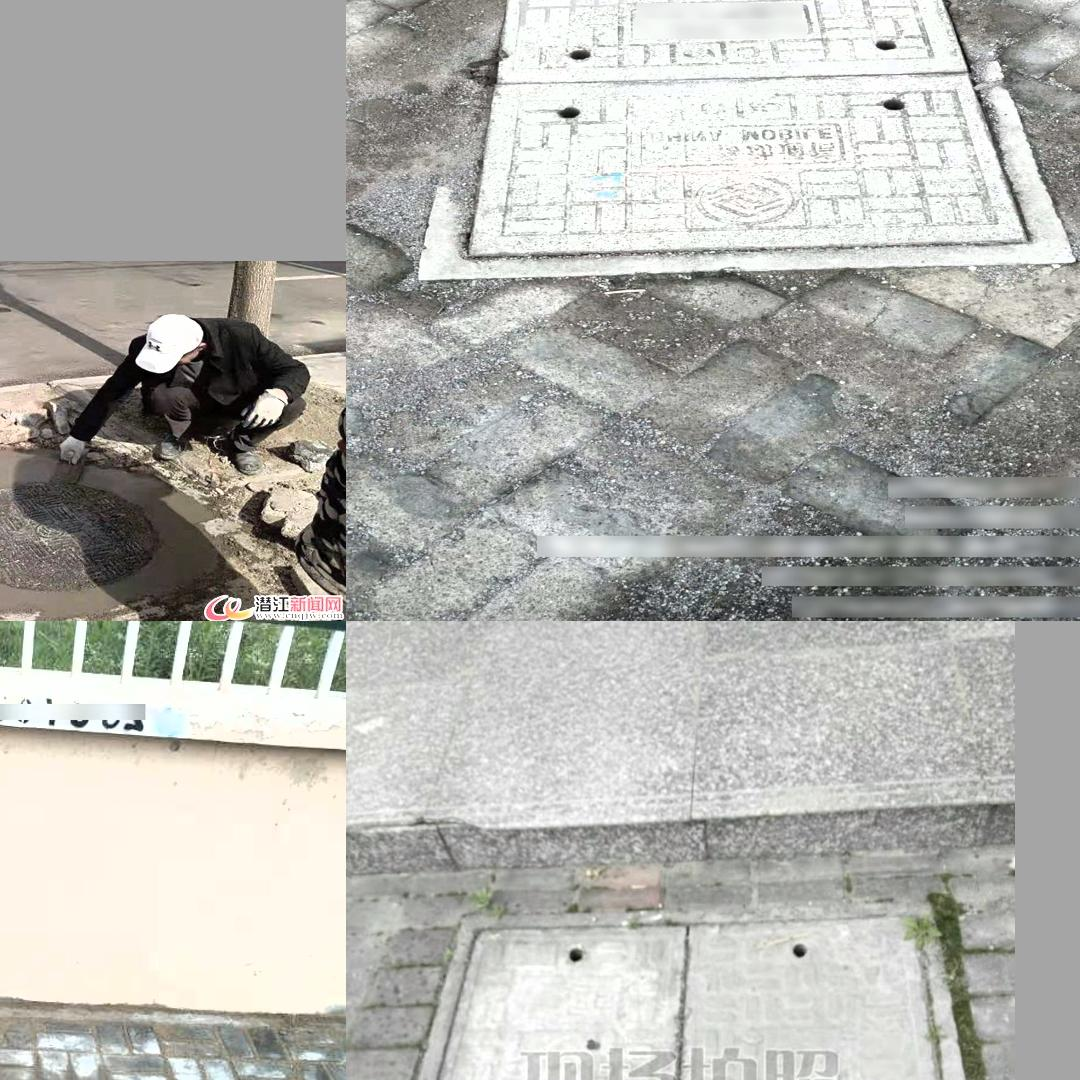good: (418, 0, 1076, 282), (375, 909, 971, 1080), (0, 446, 232, 612)
